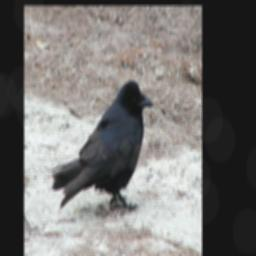Crow: (50, 78, 153, 212)
